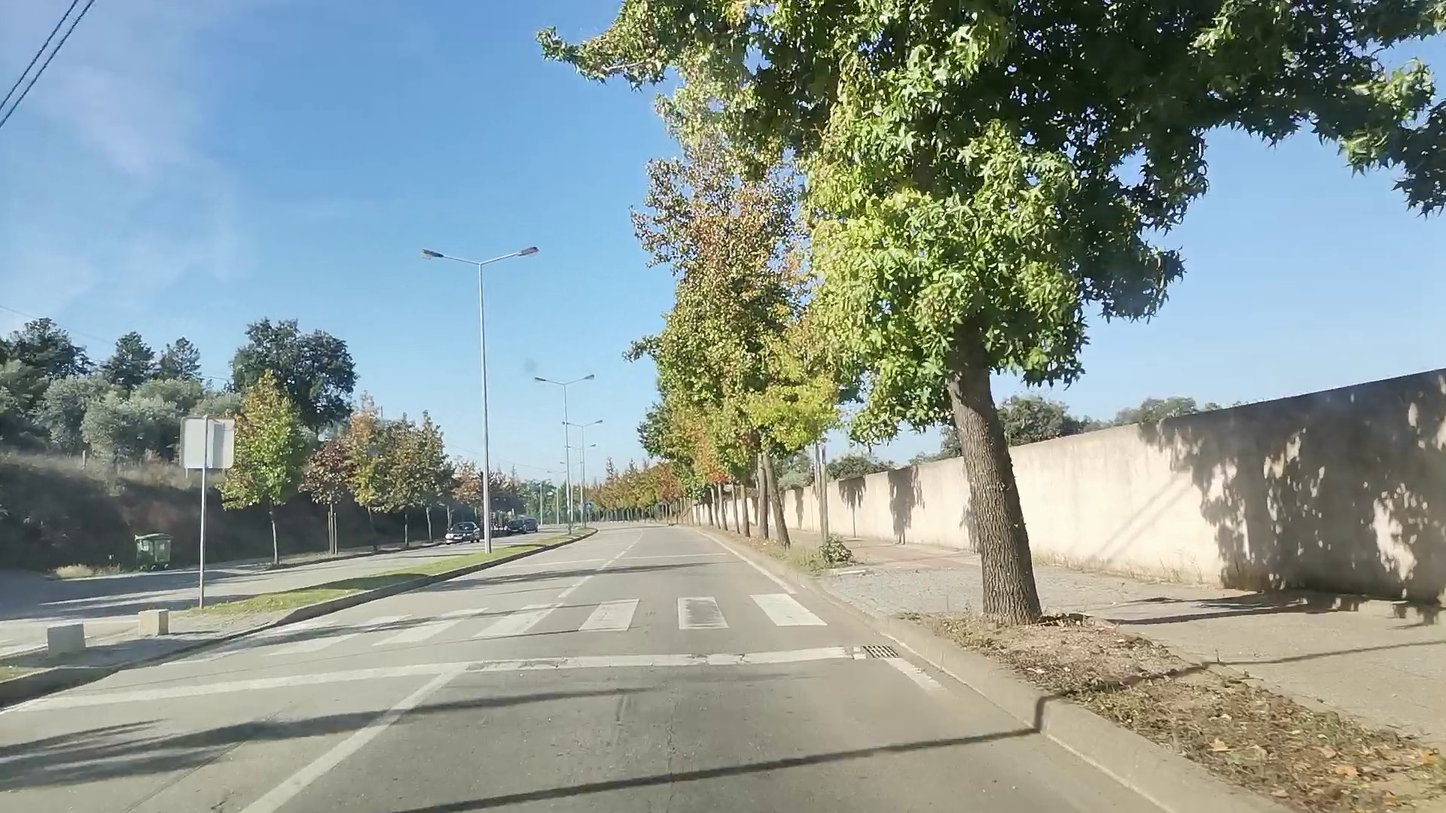Stairs: (174, 588, 830, 667)
